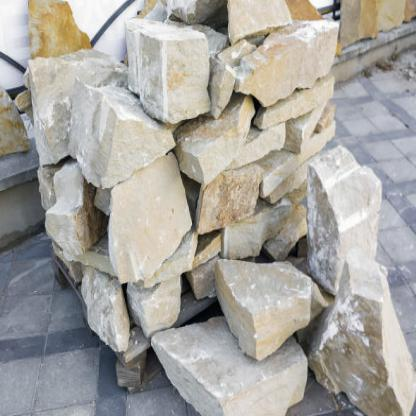Sedimentary_Limestone: (143, 289, 324, 415), (292, 137, 398, 294), (318, 251, 416, 415), (230, 14, 349, 116), (201, 240, 320, 338), (64, 80, 168, 186), (114, 166, 197, 286), (114, 14, 202, 125), (26, 57, 109, 170)
